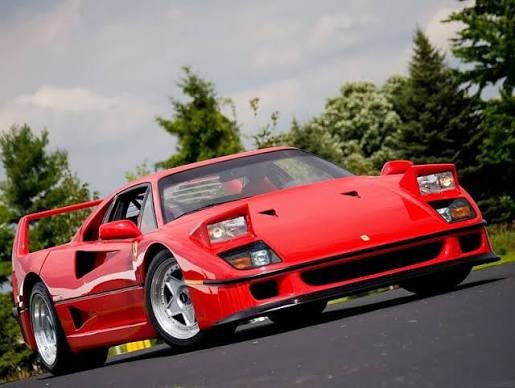car: (1, 145, 515, 361), (1, 148, 505, 357)
